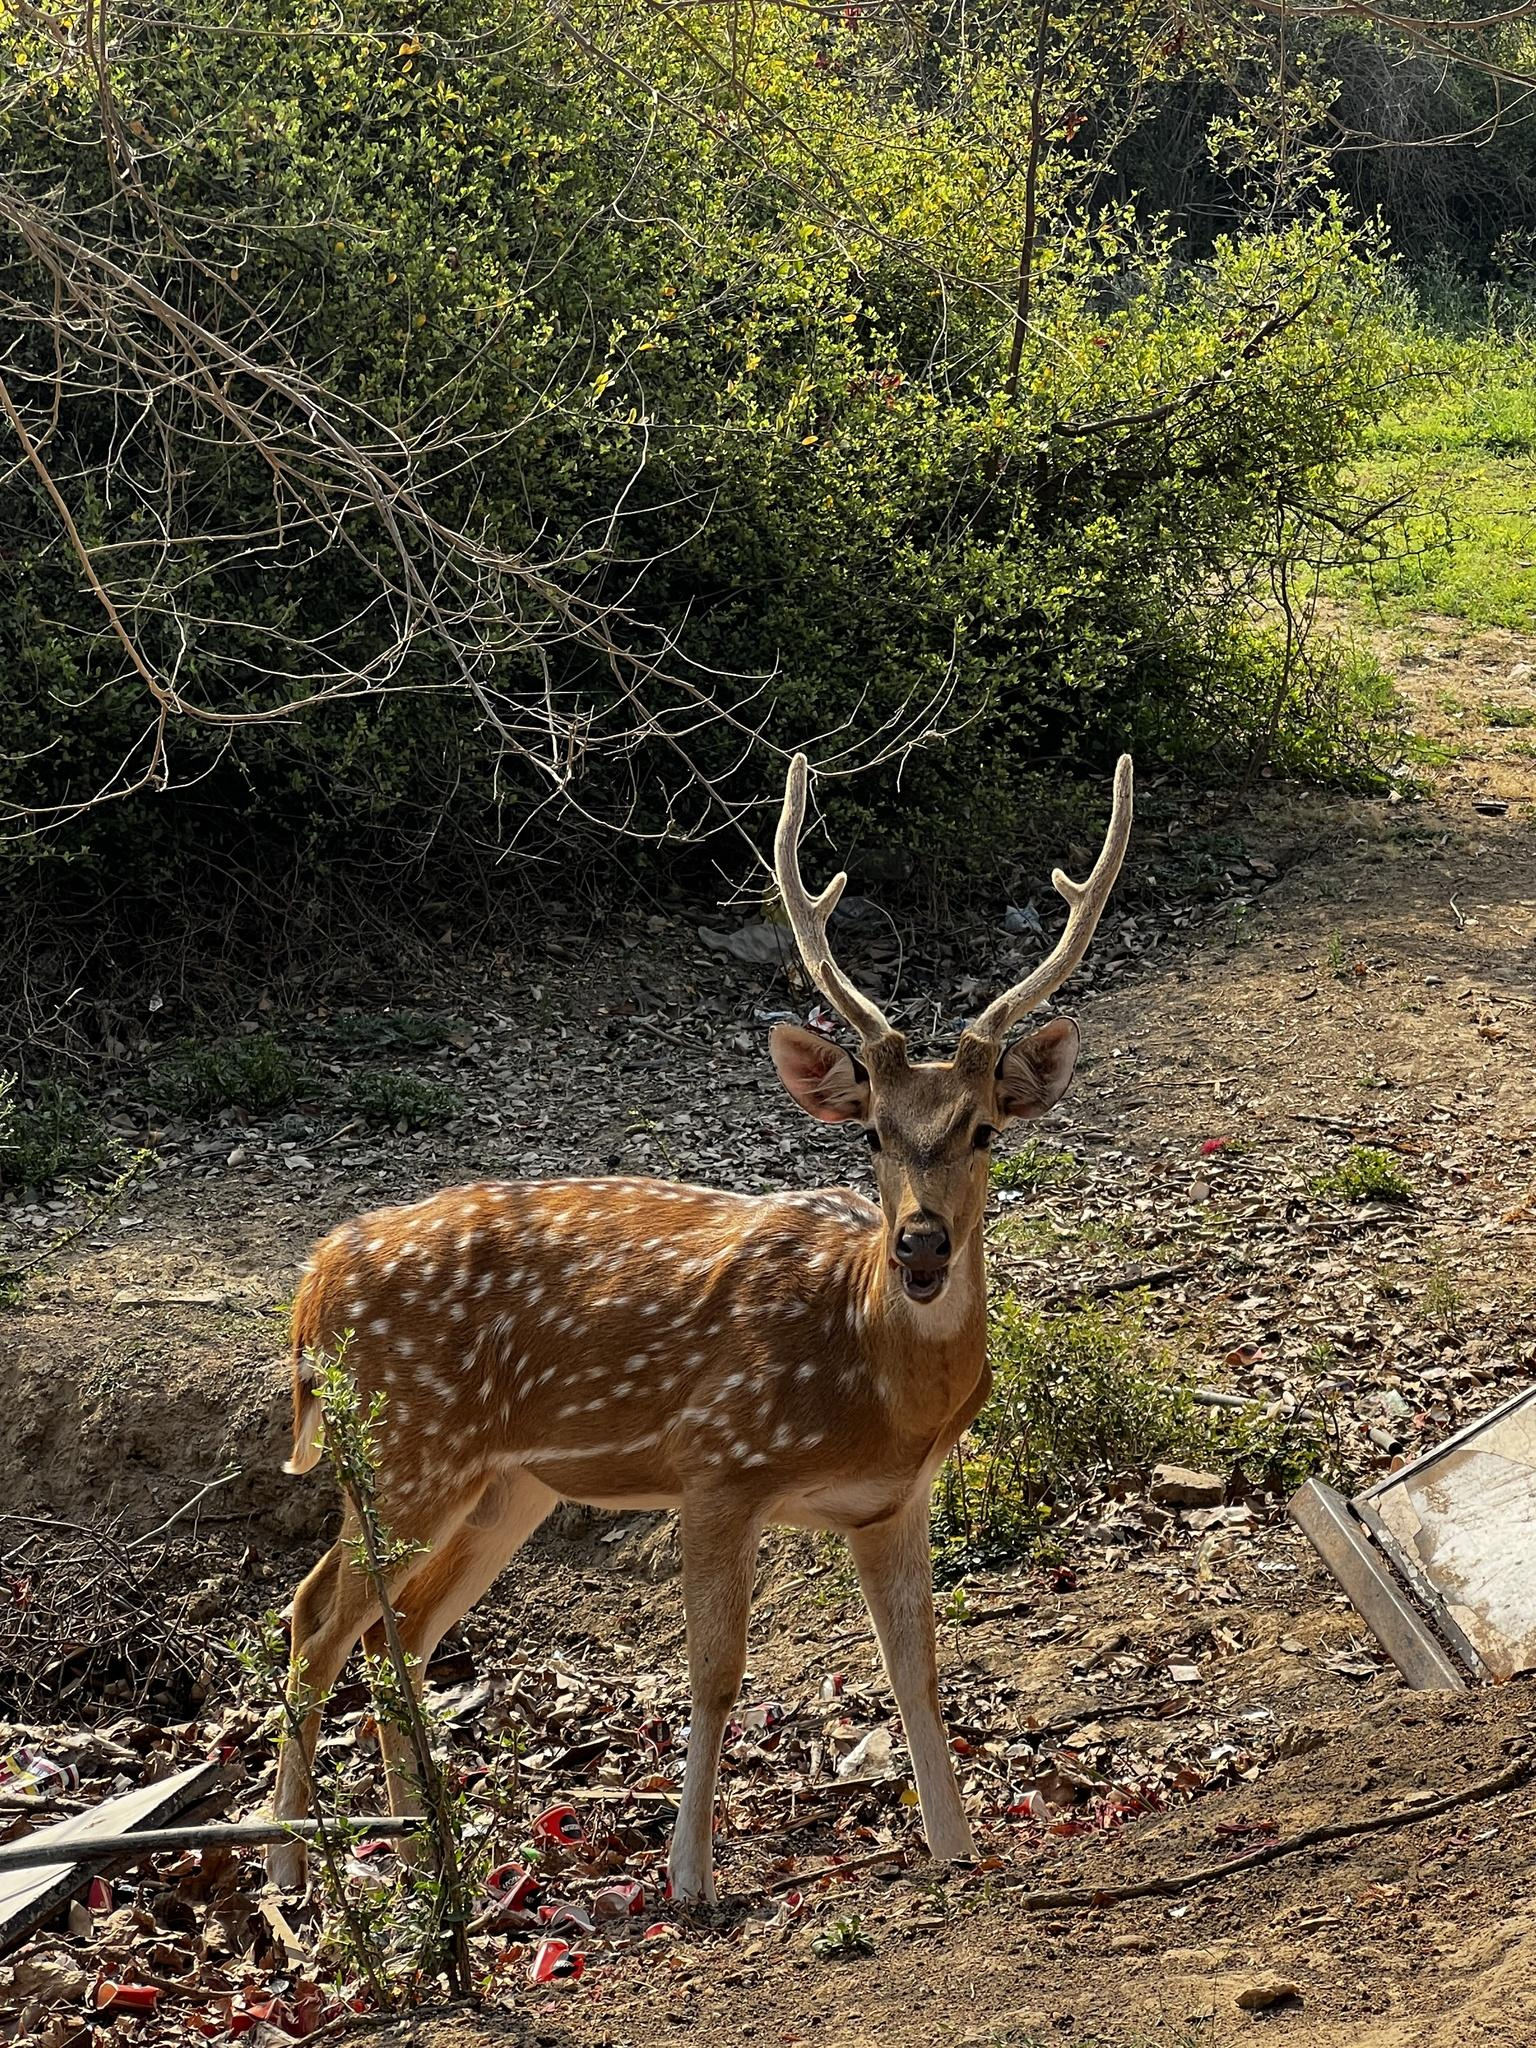Deer: (274, 756, 1133, 1901)
